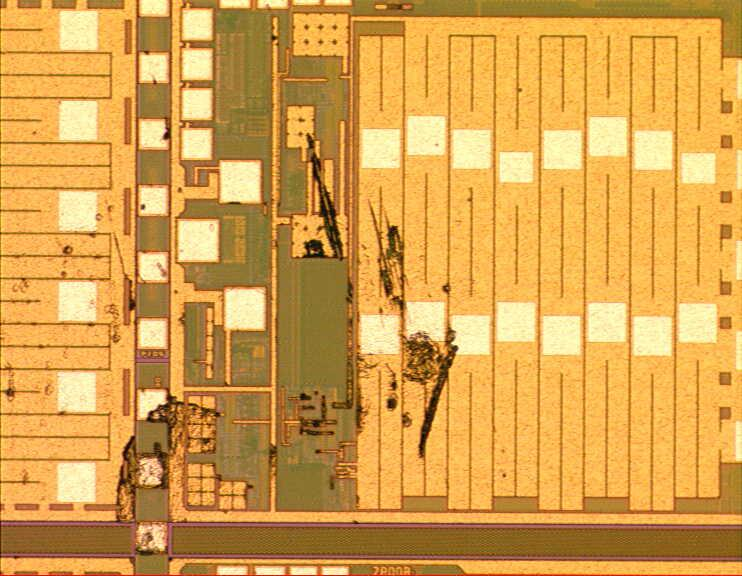SCRATCH: (112, 20, 468, 569)
